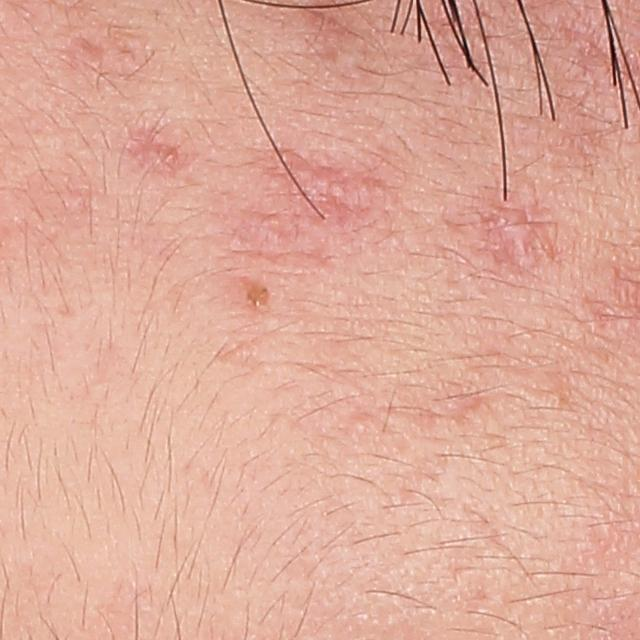comedo: (351, 417, 371, 438)
papule: (238, 282, 269, 311)
